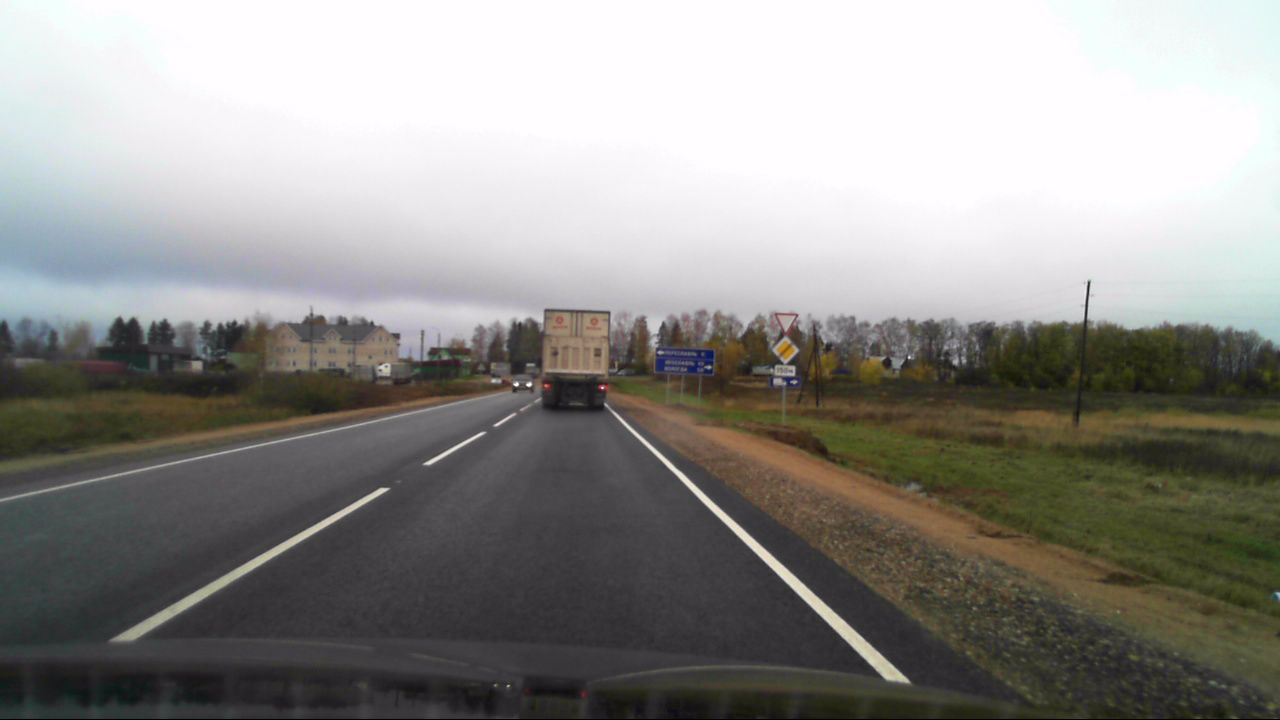main road: (770, 335, 801, 364)
